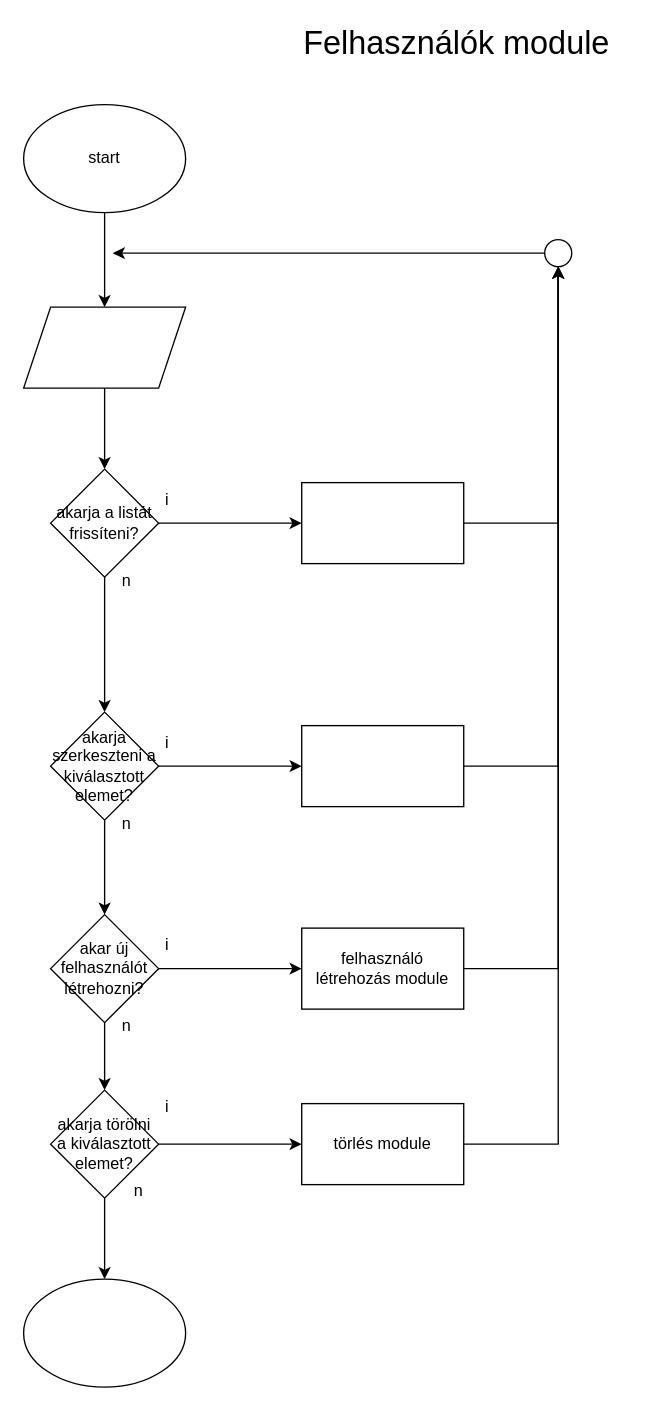
This 663x1411 diagram has some shape labels left out. Each missing label, with the centre of its shape:
"felhasználó szerkesztés module" goes at point (382, 765).
"friss lista letöltése a szerverről" goes at point (382, 522).
"ki: felhasználók lista" goes at point (104, 347).
"stop" goes at point (104, 1332).
